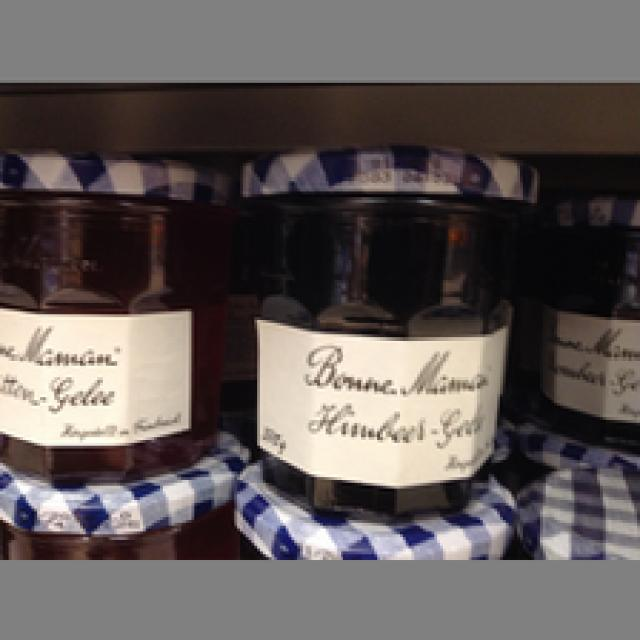groceries: (237, 143, 537, 514), (0, 149, 226, 474)
